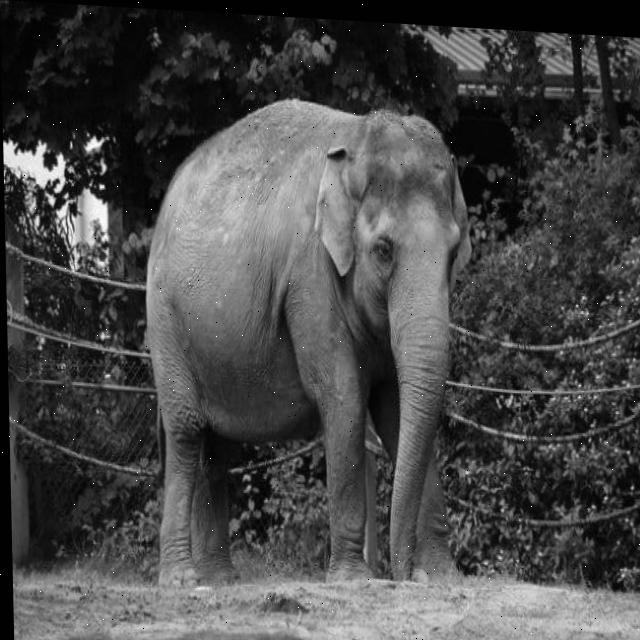Elephant: (140, 87, 481, 606)
